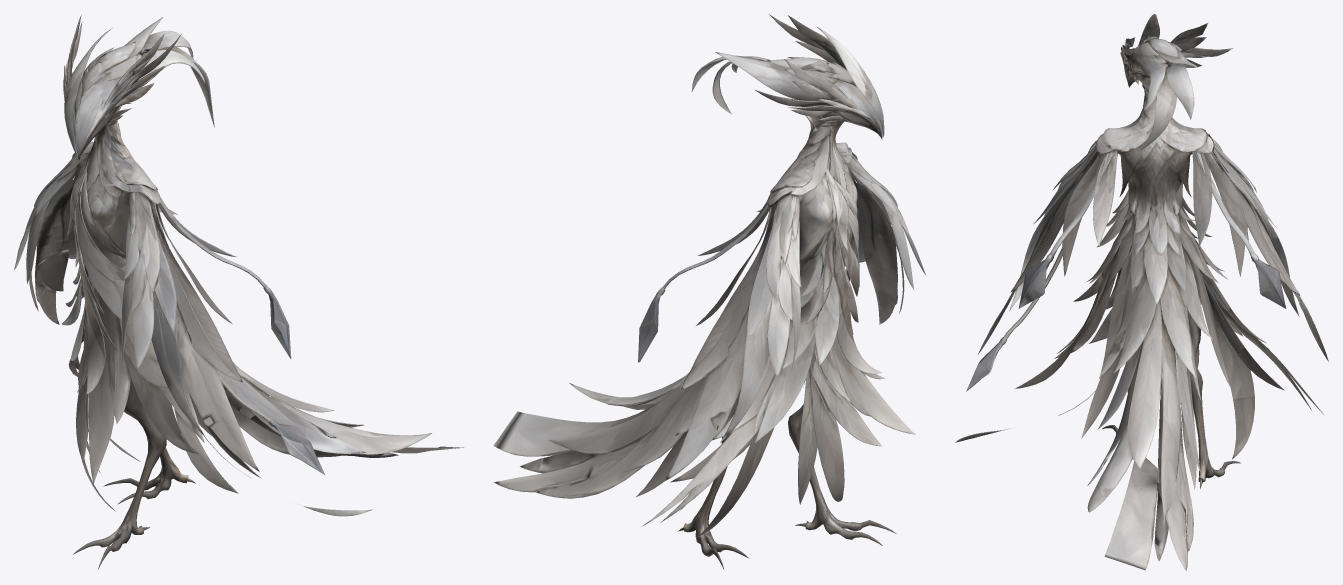
File: dream-jingyu-lod0.glb
The picture shows the model from 3 angles, left to right: view 1: azimuth 30°, elevation 25°; view 2: azimuth 150°, elevation 25°; view 3: azimuth 270°, elevation 25°; orthographic projection. The views are drawn at different scales.
Parts seen in each view (by area): view 1: dream-jingyu_SourceMesh; view 2: dream-jingyu_SourceMesh; view 3: dream-jingyu_SourceMesh.
Part boxes in pixels (<box>): dream-jingyu_SourceMesh: <box>14,15,463,569</box>; dream-jingyu_SourceMesh: <box>493,14,926,569</box>; dream-jingyu_SourceMesh: <box>955,14,1328,570</box>.
Bounding box in the file's own units: 1.45 × 1.85 × 1.44.
1 material, 1 textured.
